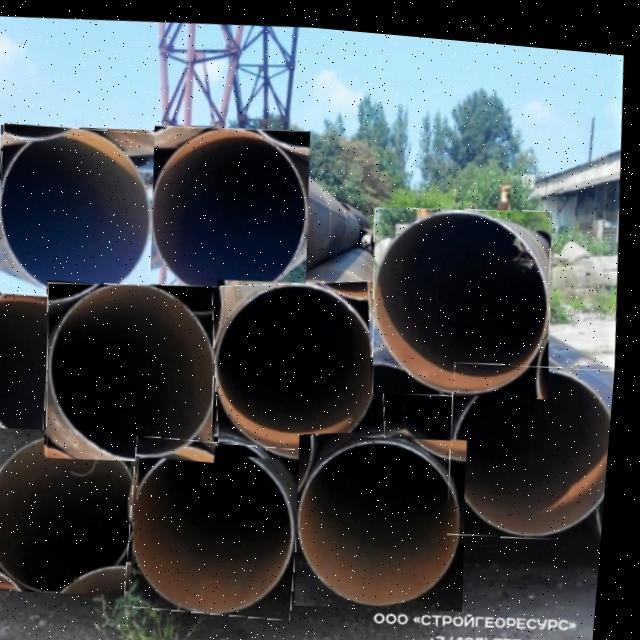pipe: (378, 201, 554, 386), (134, 433, 310, 614), (217, 275, 393, 455), (53, 281, 219, 457), (305, 429, 473, 602), (456, 353, 620, 529), (0, 123, 159, 298), (155, 123, 311, 296), (0, 427, 143, 592), (0, 276, 56, 454)
